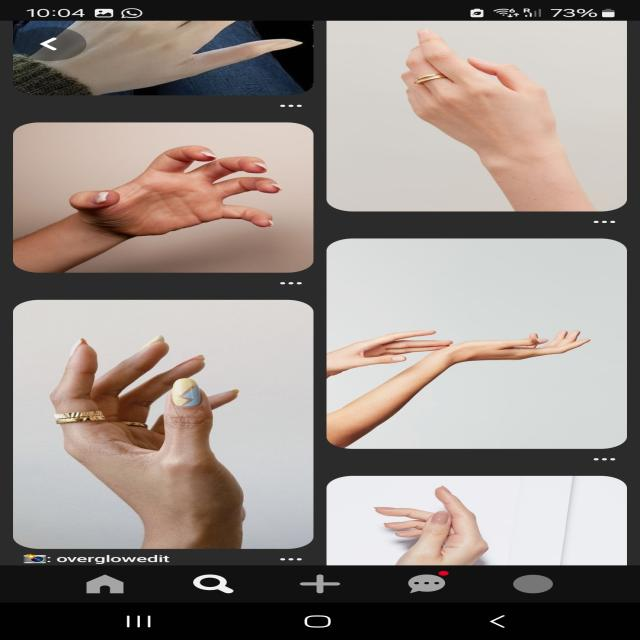hands: (45, 318, 292, 542), (364, 28, 624, 202), (36, 130, 289, 265), (439, 311, 595, 400), (368, 484, 528, 566), (335, 300, 455, 391)
